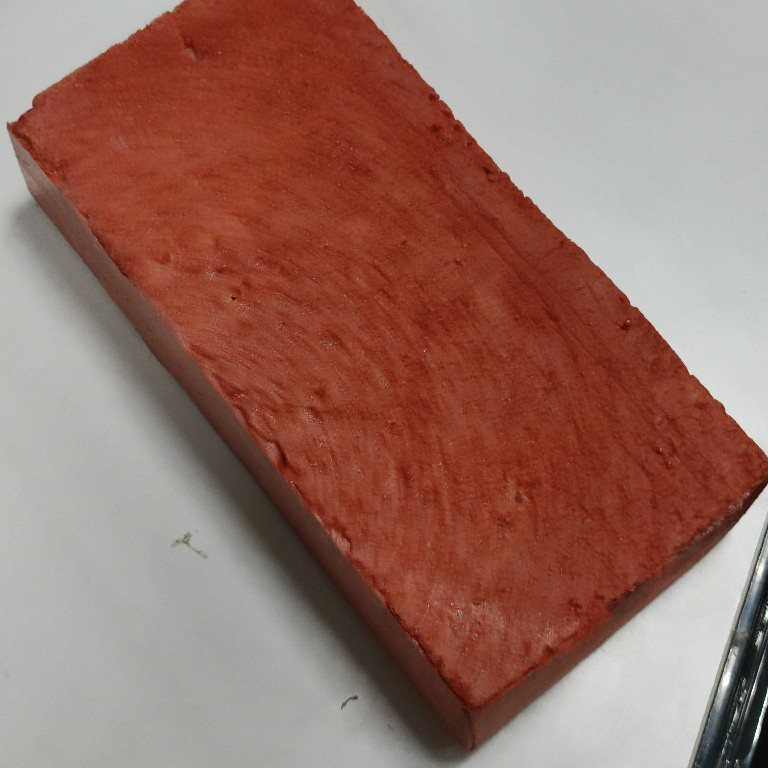brick: (1, 1, 755, 756)
